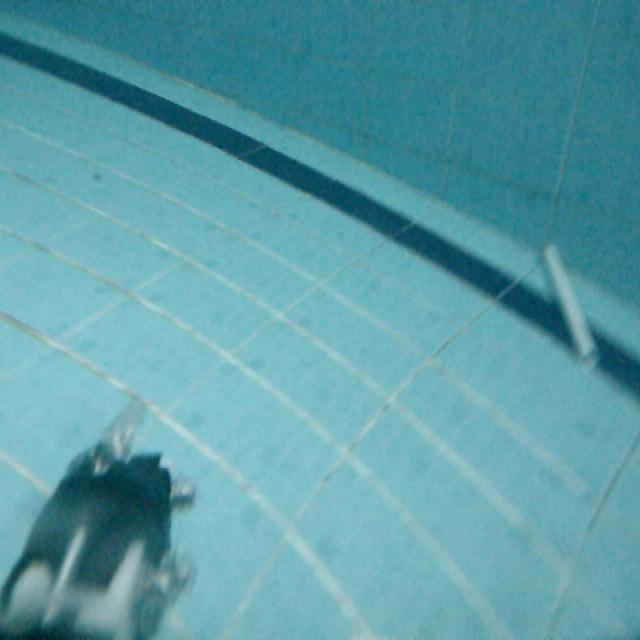Cube: (539, 240, 603, 368)
